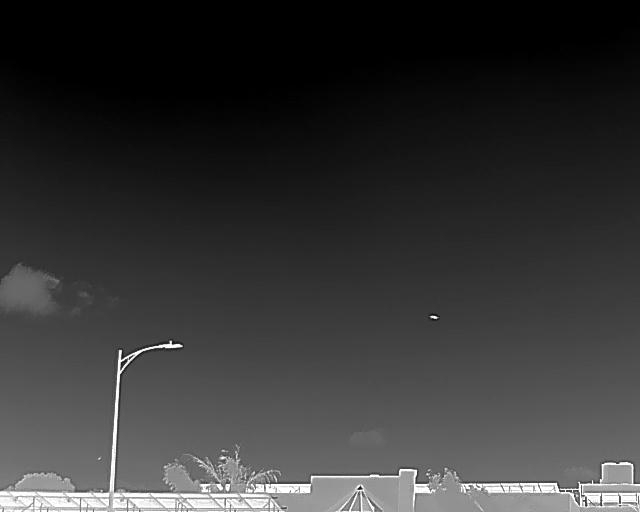fpv-drone: (429, 314, 439, 320)
